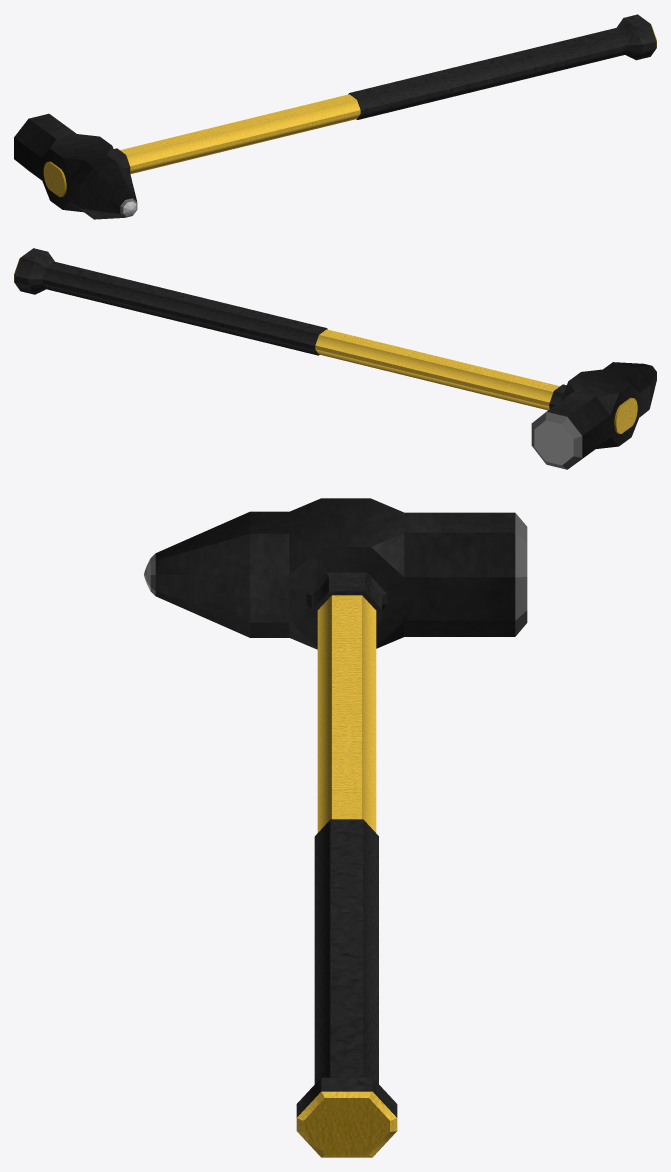
Rendered from WorldItem_IndustrialBreachingHammer.fbx.
3 views of the same model, one above another, from view 1: azimuth 30°, elevation 25°; view 2: azimuth 150°, elevation 25°; view 3: azimuth 270°, elevation 25° (orthographic). The views are drawn at different scales.
Parts seen in each view (by area): view 1: ZomboidIndustrialBreachingHammer; view 2: ZomboidIndustrialBreachingHammer; view 3: ZomboidIndustrialBreachingHammer.
Boxes of the visible parts, <box> form: ZomboidIndustrialBreachingHammer: <box>14,14,656,219</box>; ZomboidIndustrialBreachingHammer: <box>14,248,656,469</box>; ZomboidIndustrialBreachingHammer: <box>144,498,527,1157</box>.
Bounding box in the file's own units: 0.701 × 0.0589 × 0.1966.
